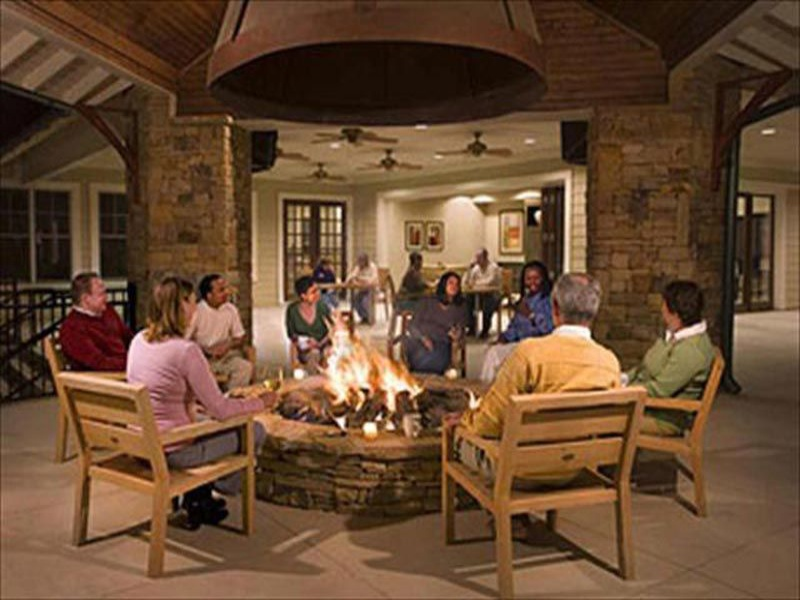fire: (316, 309, 424, 439)
